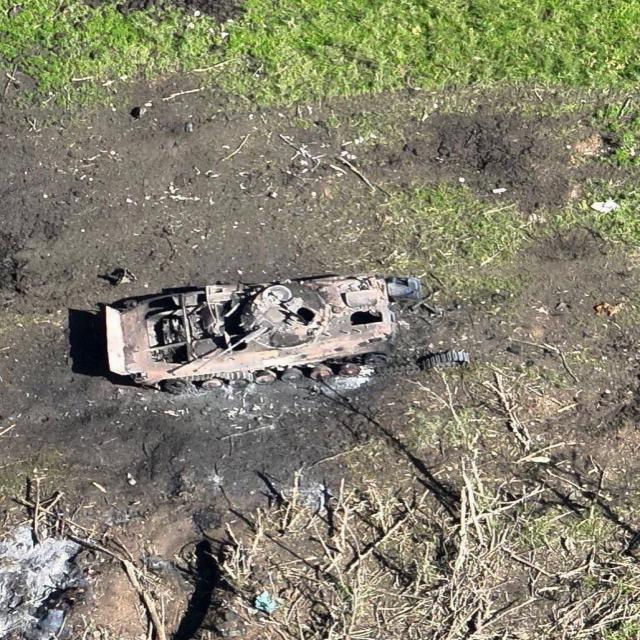Destroyed: (101, 269, 398, 396)
